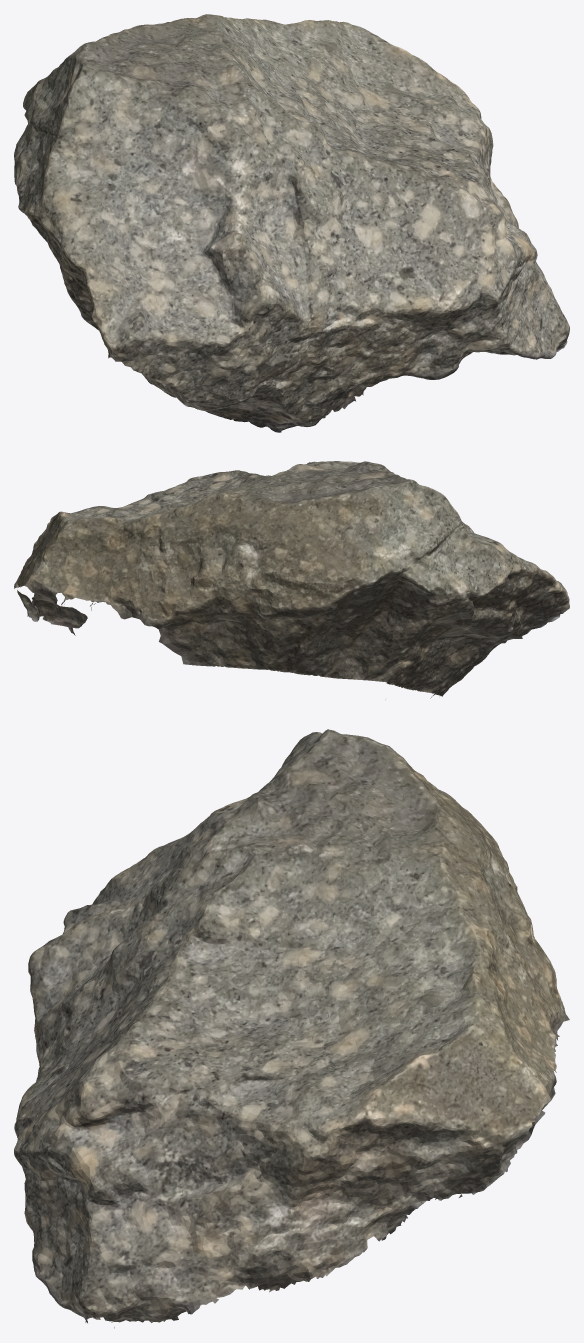
Rendered from andesite.glb.
3 renders of one model, top to bottom at view 1: azimuth 30°, elevation 25°; view 2: azimuth 150°, elevation 25°; view 3: azimuth 270°, elevation 25°, orthographic. The views are drawn at different scales.
Bounding box in the file's own units: 2.91 × 1.92 × 2.37.
Materials: 1 (1 with a texture image).
